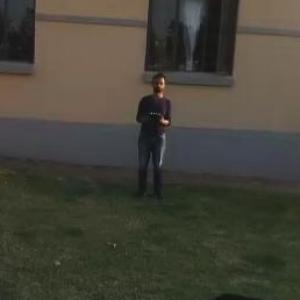follow: (129, 72, 173, 213)
